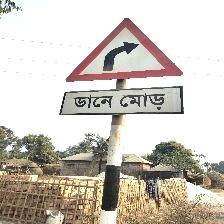Right-turn: (60, 17, 185, 117)
